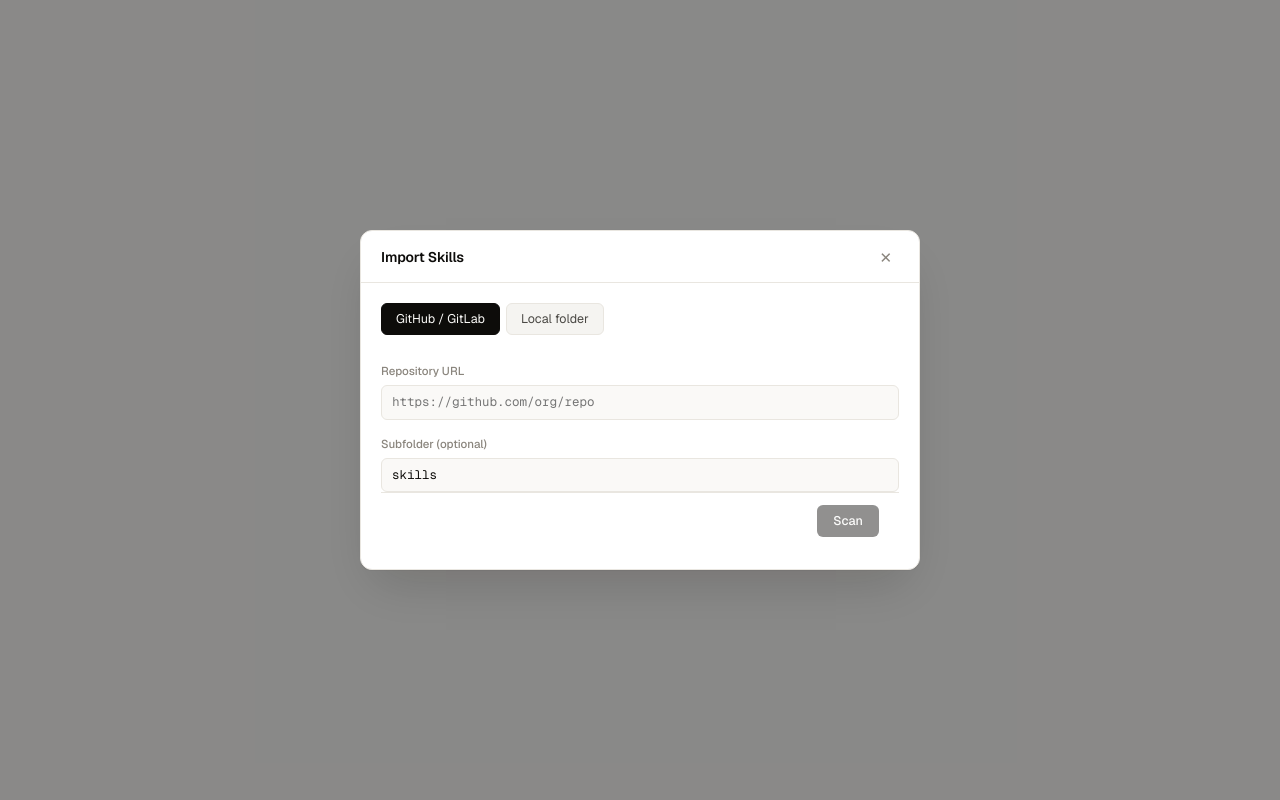
ImportSkillsModal — Step 1 › shows Browse button when window.electron is set
Click the button with test id "source-local": [555, 319] box [506,303,604,335]
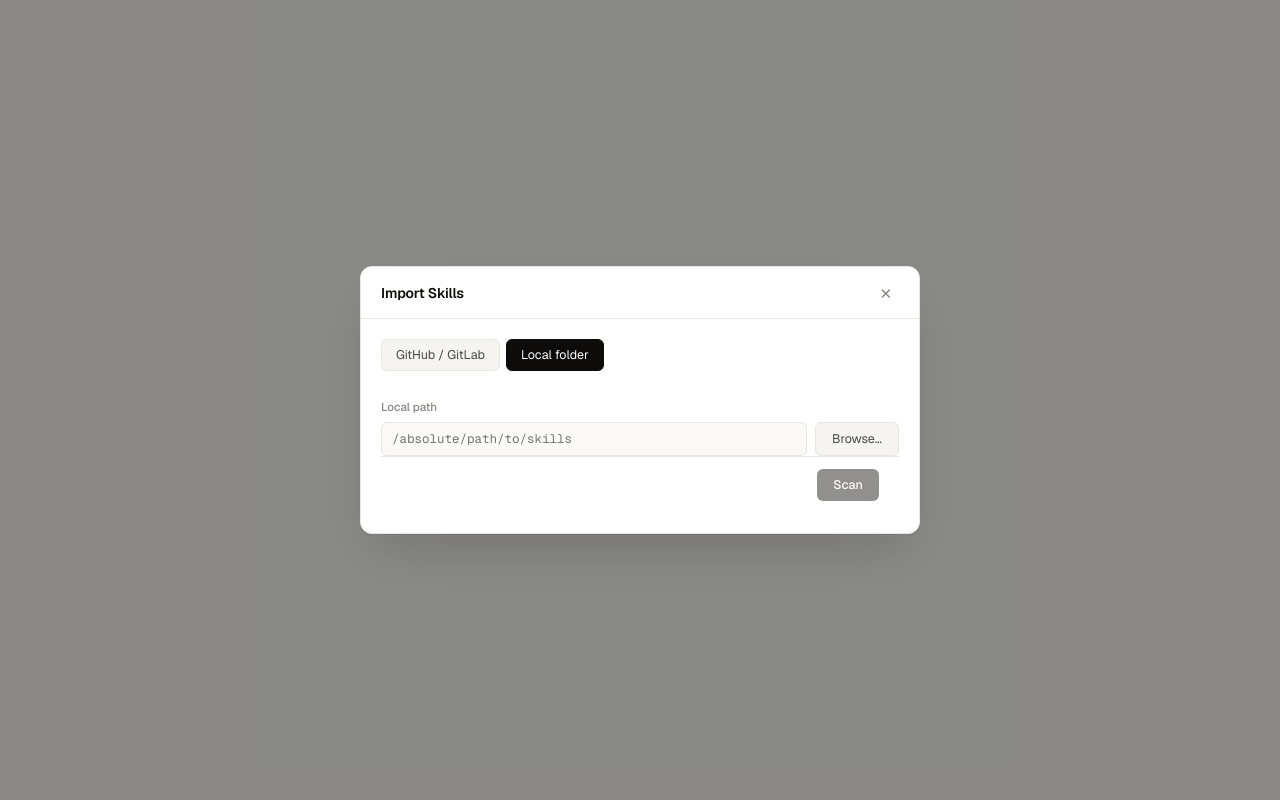
Check: the button with test id "browse-btn" is shown, box [815,422,899,456]
